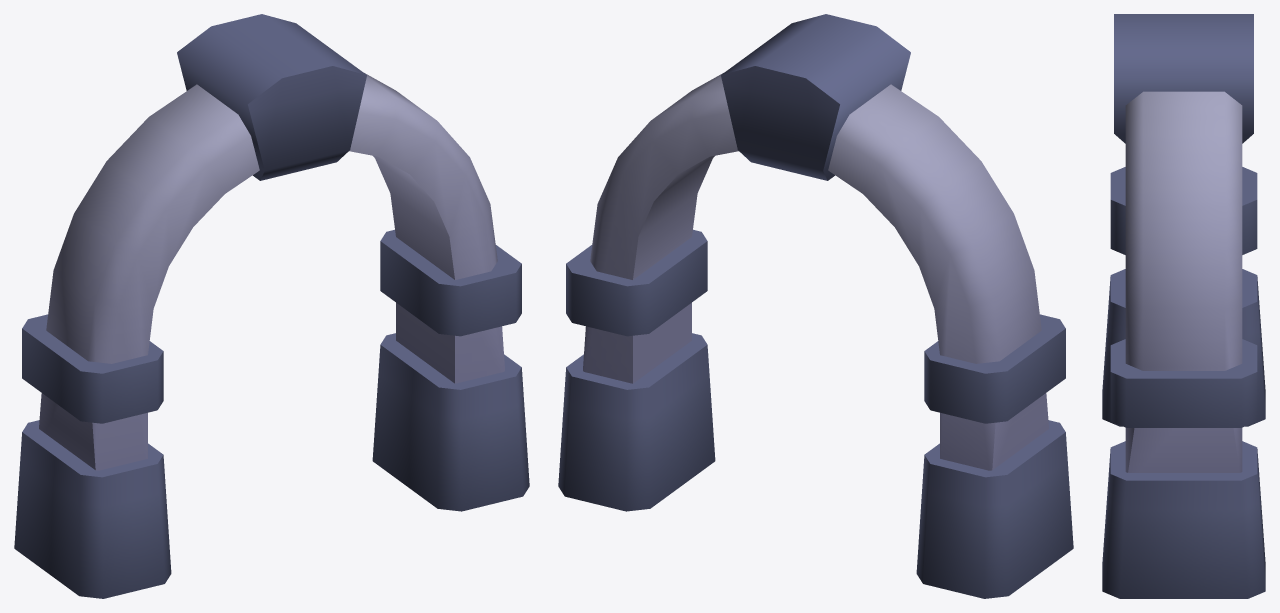
Rendered from gate.glb.
The picture shows the model from 3 angles, left to right: view 1: azimuth 30°, elevation 25°; view 2: azimuth 150°, elevation 25°; view 3: azimuth 270°, elevation 25°; orthographic projection.
Visible parts, largest first — view 1: gate; view 2: gate; view 3: gate.
Boxes of the visible parts, x1,y1,x2,y2 form: gate: (14,14,529,598); gate: (558,14,1073,598); gate: (1102,14,1265,598).
Bounding box in the file's own units: 4.4 × 4.4 × 1.4.
1 material, 1 textured.
